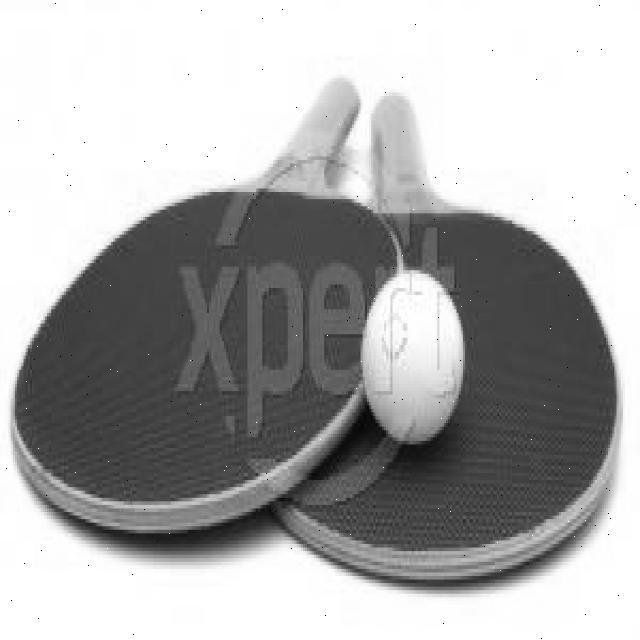ping-pong-ball: (359, 268, 465, 450)
